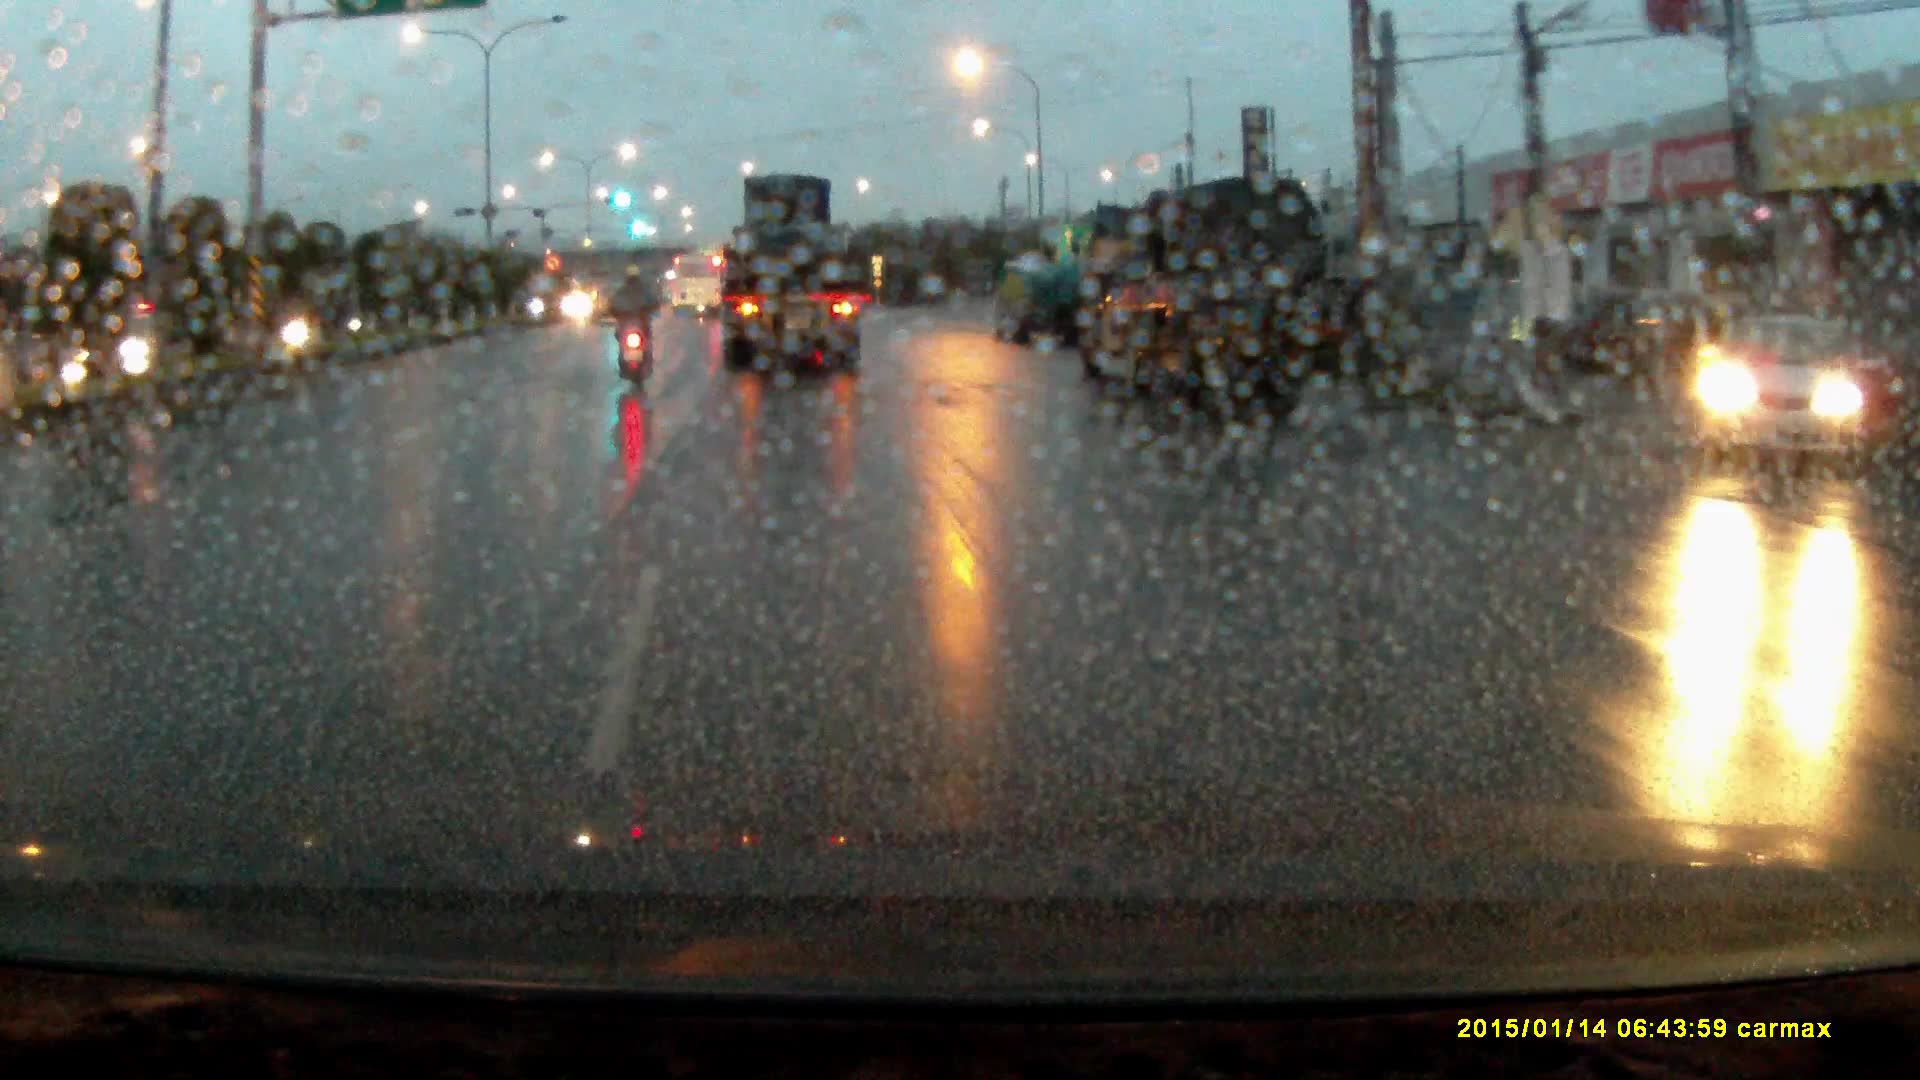rider: (612, 268, 667, 396)
vehicle: (1074, 184, 1336, 426), (1694, 310, 1884, 468), (725, 175, 860, 370), (992, 262, 1088, 346), (671, 257, 724, 321), (592, 284, 641, 329)
